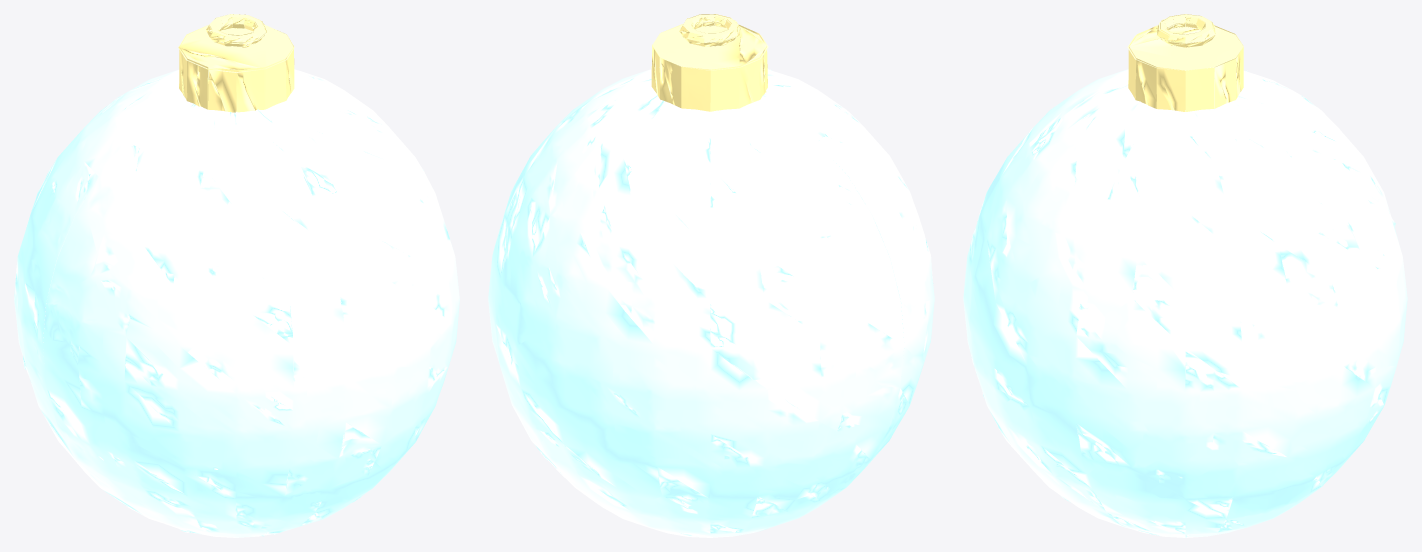
Rendered from xmas_bauble.glb.
3 renders of one model, left to right at view 1: azimuth 30°, elevation 25°; view 2: azimuth 150°, elevation 25°; view 3: azimuth 270°, elevation 25°, orthographic.
Parts seen in each view (by area): view 1: Bauble; view 2: Bauble; view 3: Bauble.
Part boxes in pixels (left/top/right/bottom): Bauble: left=14, top=14, right=459, bottom=537; Bauble: left=488, top=14, right=934, bottom=537; Bauble: left=963, top=14, right=1407, bottom=537.
Bounding box in the file's own units: 1.84 × 2.25 × 1.83.
